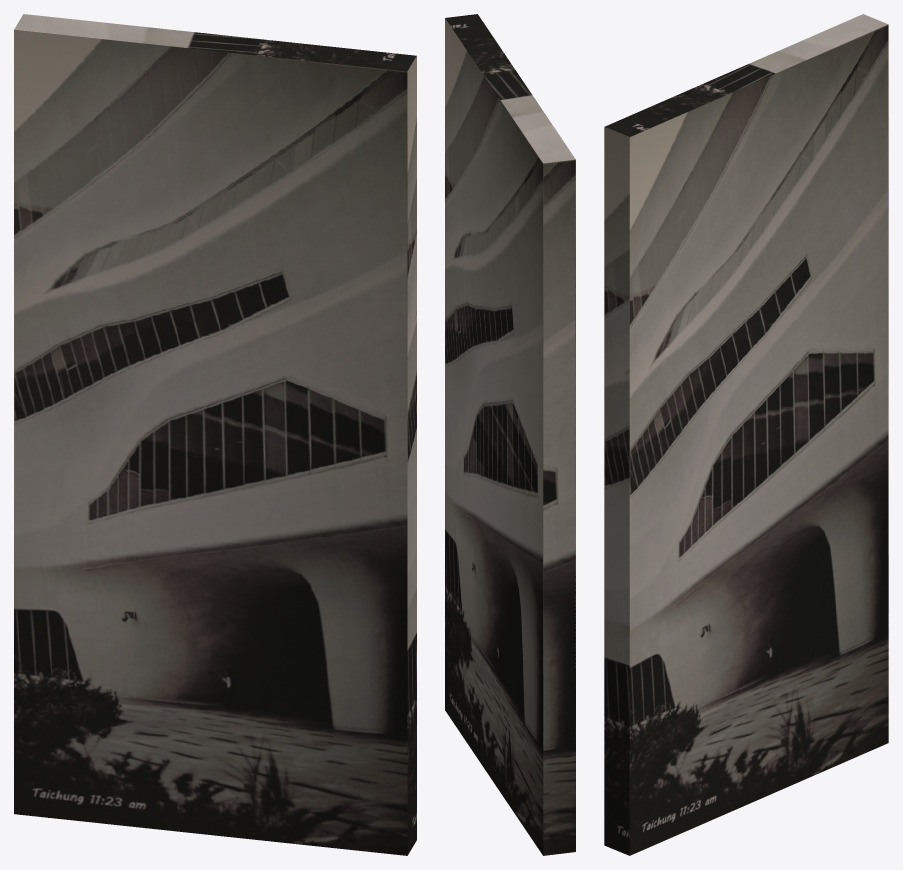
The model's file is singleItem.dae.
3 views of the same model, side by side, from view 1: azimuth 30°, elevation 25°; view 2: azimuth 150°, elevation 25°; view 3: azimuth 270°, elevation 25° (orthographic). The views are drawn at different scales.
Parts seen in each view (by area): view 1: group_0; view 2: group_0; view 3: group_0.
Part boxes in pixels (bbox=[...]): group_0: bbox=[14, 14, 416, 855]; group_0: bbox=[445, 14, 575, 855]; group_0: bbox=[604, 14, 888, 855].
Size of the model in its own units: 16.27 by 15.85 by 44.25.
1 material, 1 textured.
